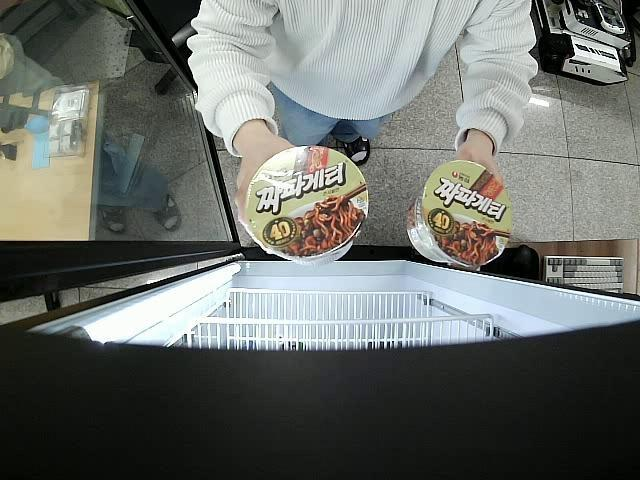03_chapagetti_L: (244, 146, 370, 266), (406, 160, 512, 266)
